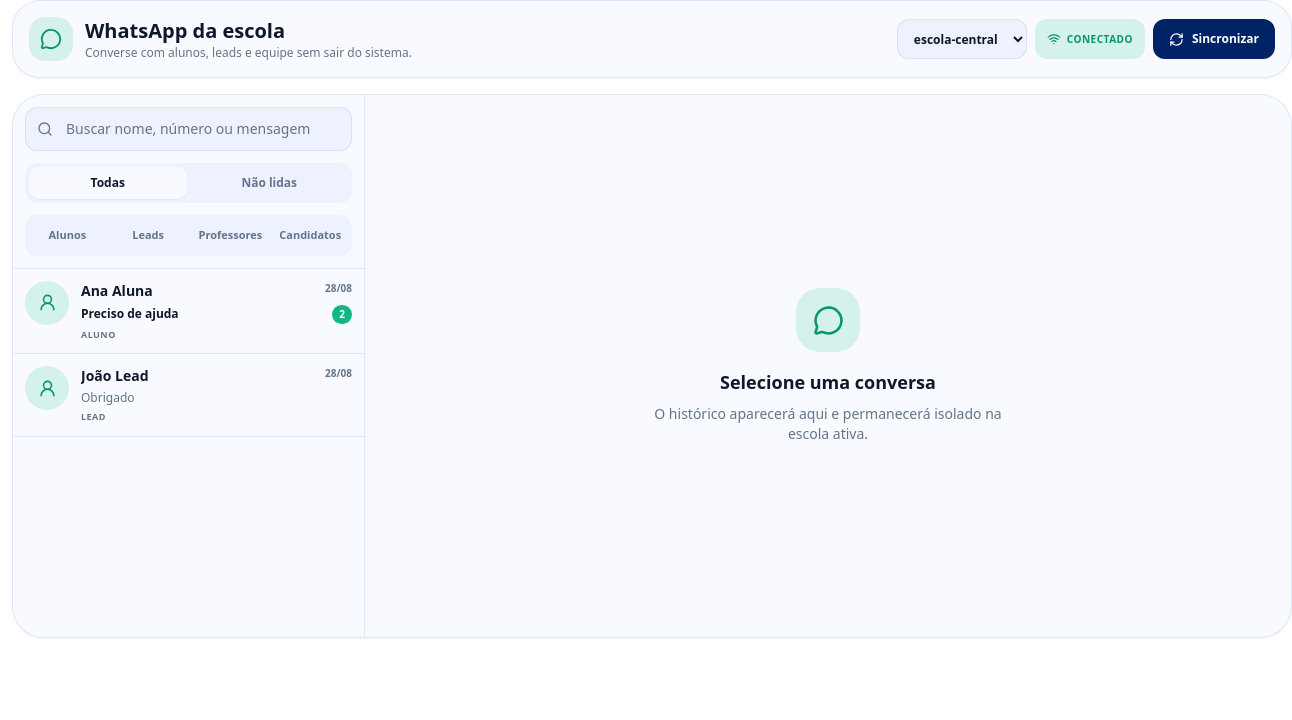
<WhatsappInbox /> › separa por tipo de contato — é o que a etiqueta do WhatsApp faria
Check: the text "Ana Aluna" is shown, box 81,280 -> 153,300
Check: the text "João Lead" is shown, box 81,366 -> 149,386
What coordinates should you click on to do the following:
click the button "Leads"
I would click on:
 (148, 235)
Its box is 110,219 -> 187,252.
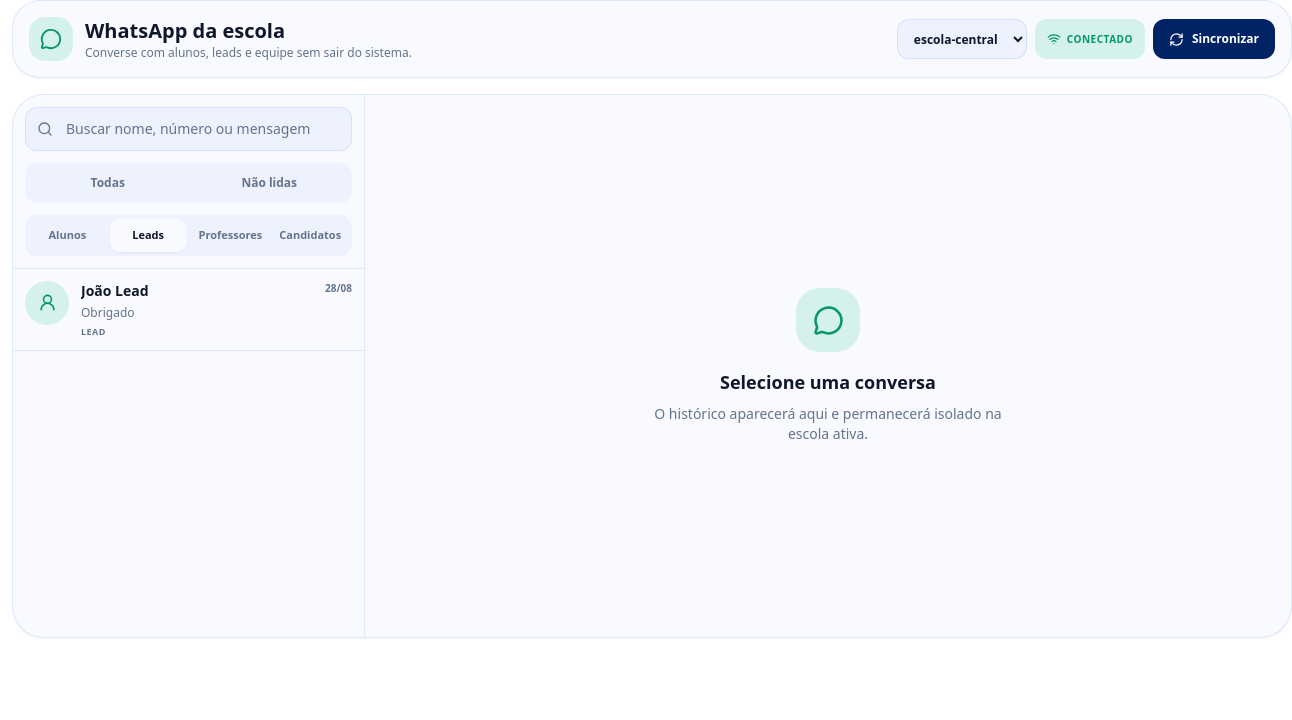
Check: the text "João Lead" is shown, box 81,280 -> 149,300
Check: the button "Ana Aluna" is gone
What coordinates should you click on to do the following:
click the button "Alunos"
I would click on:
 (67, 235)
Its box is 29,219 -> 106,252.
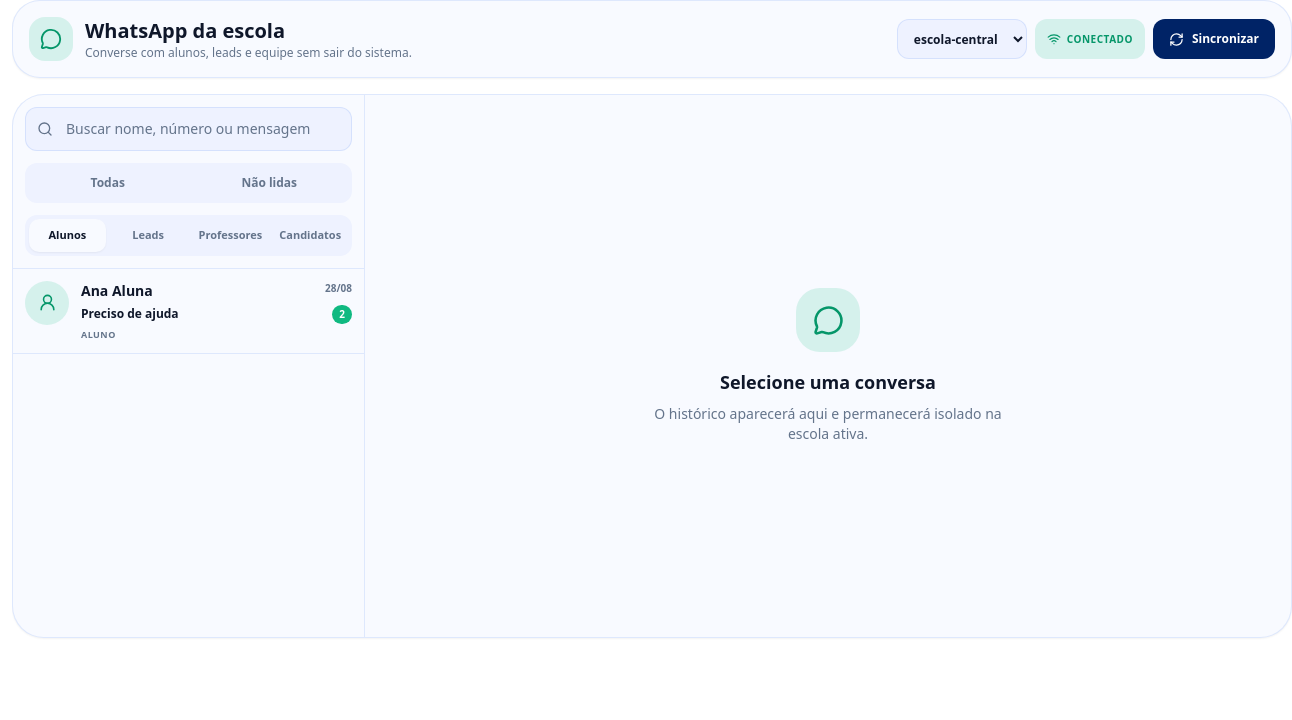
Check: the text "Ana Aluna" is shown, box 81,280 -> 153,300
Check: the button "João Lead" is gone
Note: Clicar de novo no mesmo filtro volta para todas — sem botão extra.
What coordinates should you click on to do the following:
click the button "Alunos"
I would click on:
 (67, 235)
Its box is 29,219 -> 106,252.
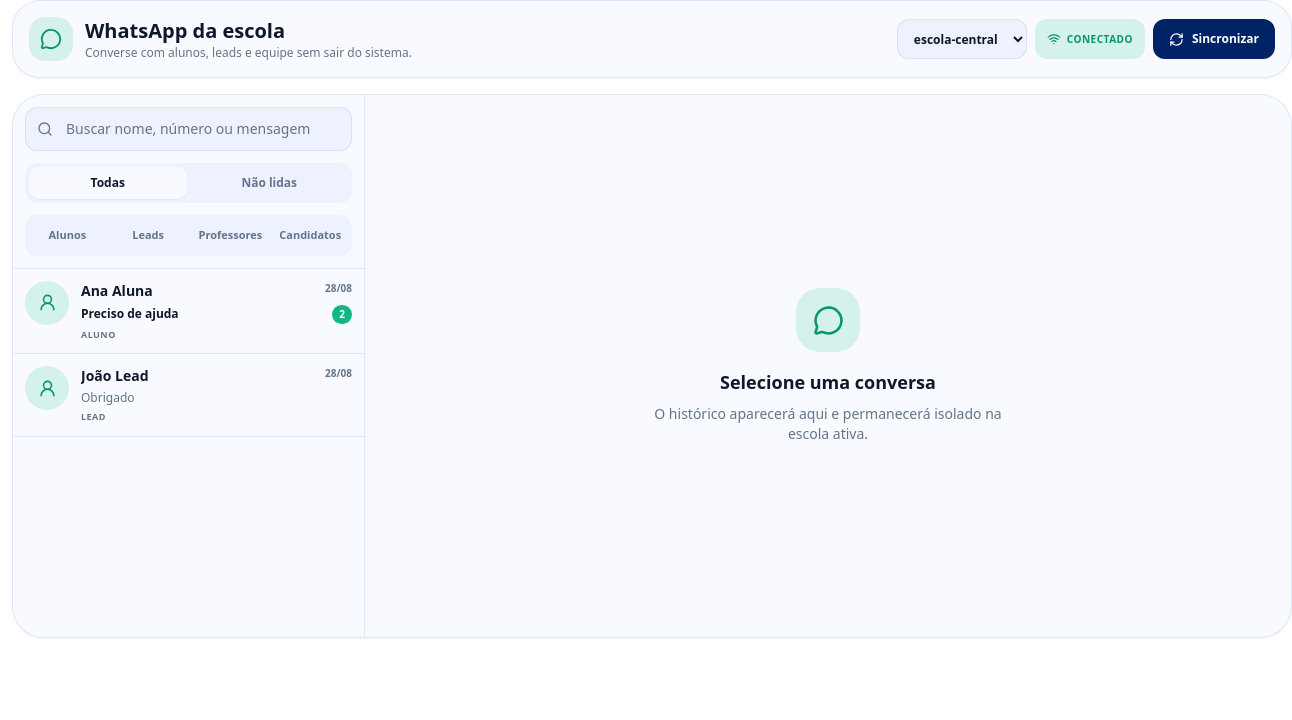
Check: the text "Ana Aluna" is shown, box 81,280 -> 153,300
Check: the text "João Lead" is shown, box 81,366 -> 149,386
